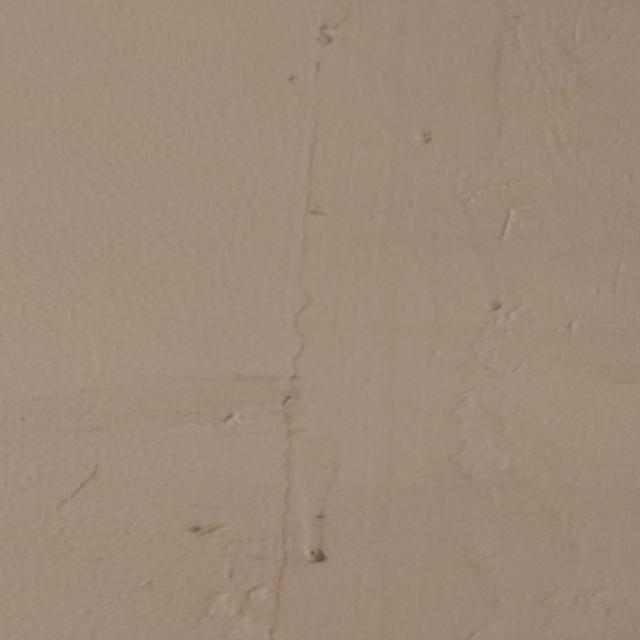Crack: (264, 10, 328, 630)
